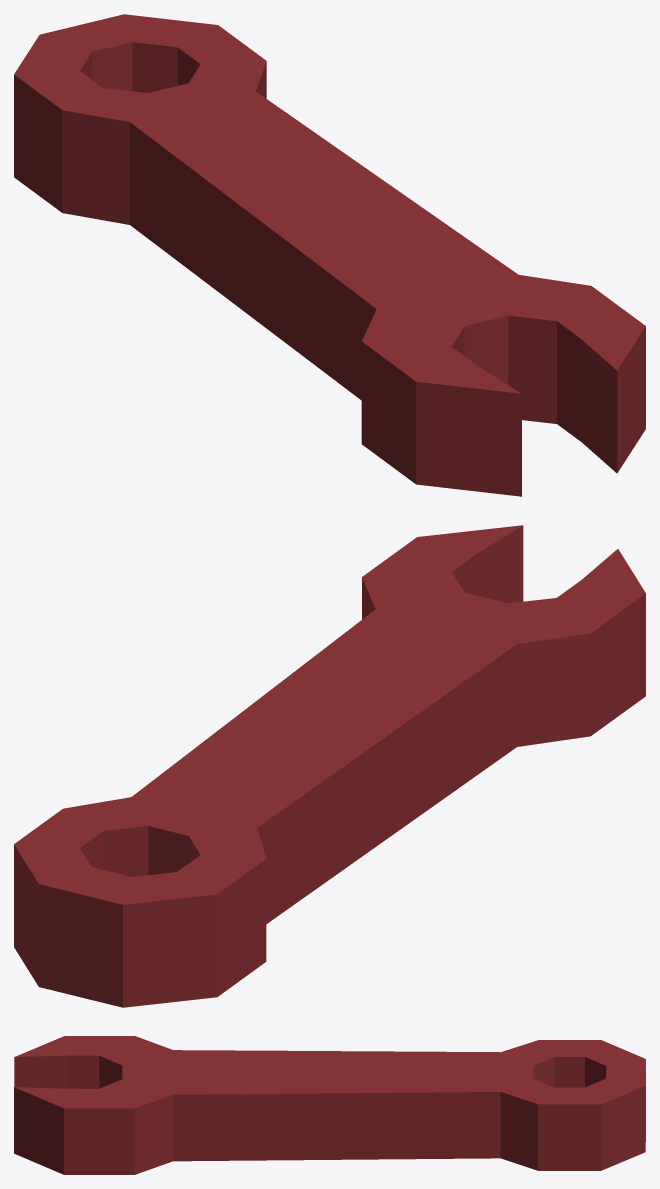
The model's file is OB_Spaner.fbx.
3 views of the same model, one above another, from view 1: azimuth 30°, elevation 25°; view 2: azimuth 150°, elevation 25°; view 3: azimuth 270°, elevation 25° (orthographic). The views are drawn at different scales.
Parts seen in each view (by area): view 1: OB_Spaner; view 2: OB_Spaner; view 3: OB_Spaner.
Boxes of the visible parts, left/top/right/bottom form: OB_Spaner: left=14, top=14, right=645, bottom=496; OB_Spaner: left=14, top=525, right=645, bottom=1007; OB_Spaner: left=14, top=1036, right=645, bottom=1174.
Size of the model in its own units: 18.17 by 7.78 by 67.
